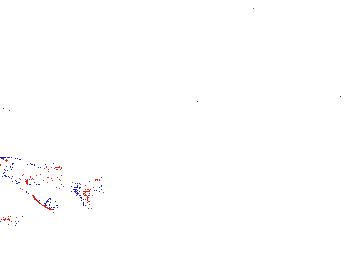redtail glassfish: (1, 155, 94, 213)
